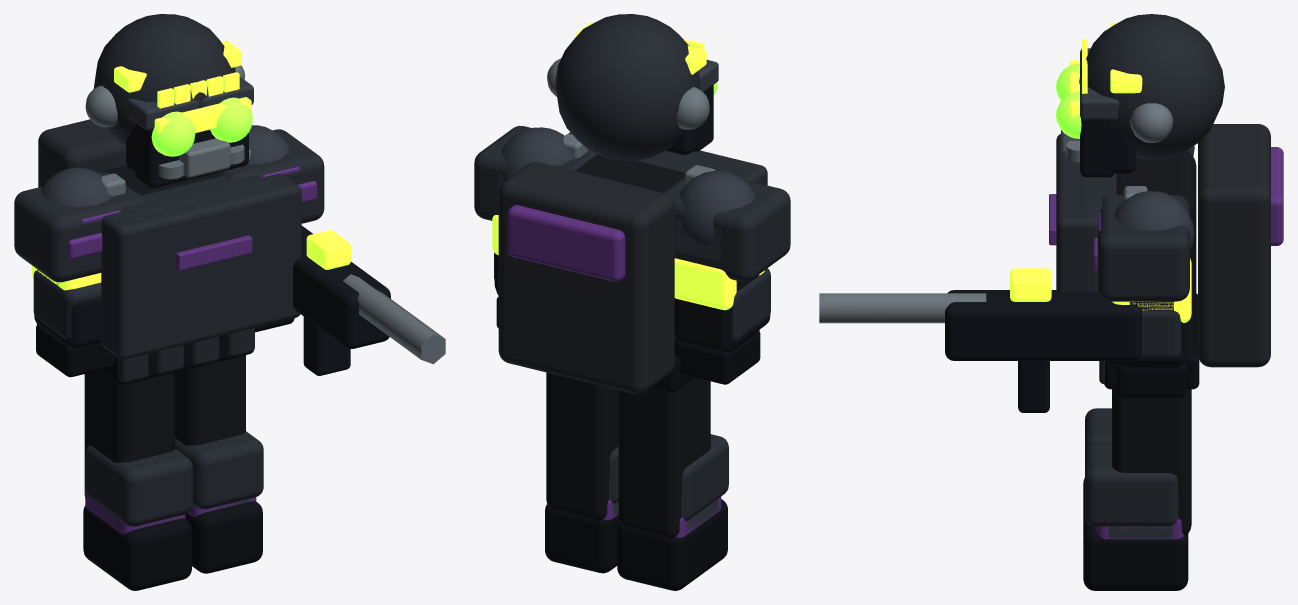
File: sentinel_l05.glb
The picture shows the model from 3 angles, left to right: view 1: azimuth 30°, elevation 25°; view 2: azimuth 150°, elevation 25°; view 3: azimuth 270°, elevation 25°; orthographic projection. The views are drawn at different scales.
Visible parts, largest first — view 1: tactical_chest_plate, trouser (×2), shaped_knee_guard (×2), boot (×2), broad_shoulder_guard (×2), rounded_helmet, heavy_carbine, field_pack, heavy_barrel, shoulder_joint (×2), forearm_plate, glove (+22 smaller); view 2: field_pack, trouser (×2), rounded_helmet, boot (×2), broad_shoulder_guard (×2), elite_back_plate, shoulder_joint (×2), shaped_knee_guard (×2), glove, sleeve, rank_stripe, body (+11 smaller); view 3: field_pack, rounded_helmet, heavy_carbine, broad_shoulder_guard, trouser, shaped_knee_guard (×2), boot, tactical_chest_plate, heavy_barrel, body, shoulder_joint, glove (+15 smaller).
Part boxes in pixels (x1,y1,x2,y2): tactical_chest_plate: (101, 173, 301, 359); trouser (×2): (84, 355, 245, 497); shaped_knee_guard (×2): (85, 431, 263, 526); boot (×2): (83, 501, 262, 590); broad_shoulder_guard (×2): (14, 129, 324, 282); rounded_helmet: (93, 14, 235, 145); heavy_carbine: (293, 225, 390, 348); field_pack: (38, 119, 126, 187); heavy_barrel: (343, 274, 445, 364); shoulder_joint (×2): (41, 125, 289, 206); forearm_plate: (33, 270, 101, 339); glove: (36, 324, 114, 377); field_pack: (498, 162, 674, 394); trouser (×2): (546, 372, 710, 538); rounded_helmet: (555, 14, 701, 160); boot (×2): (545, 499, 727, 590); broad_shoulder_guard (×2): (474, 125, 790, 281); elite_back_plate: (507, 205, 625, 281); shoulder_joint (×2): (502, 127, 754, 245); shaped_knee_guard (×2): (609, 434, 728, 520); glove: (674, 331, 760, 384); sleeve: (674, 274, 759, 351); rank_stripe: (674, 258, 764, 310); body: (575, 154, 685, 342); field_pack: (1198, 124, 1270, 367); rounded_helmet: (1079, 14, 1224, 159); heavy_carbine: (945, 290, 1141, 360); broad_shoulder_guard: (1097, 195, 1189, 301); trouser: (1112, 389, 1191, 535); shaped_knee_guard (×2): (1085, 408, 1178, 526); boot: (1083, 513, 1188, 590); tactical_chest_plate: (1056, 134, 1098, 292); heavy_barrel: (819, 293, 986, 323); body: (1116, 151, 1196, 351); shoulder_joint: (1114, 191, 1194, 250); glove: (1116, 357, 1186, 397).
Bounding box in the file's own units: 1.01 × 1.88 × 1.46.
